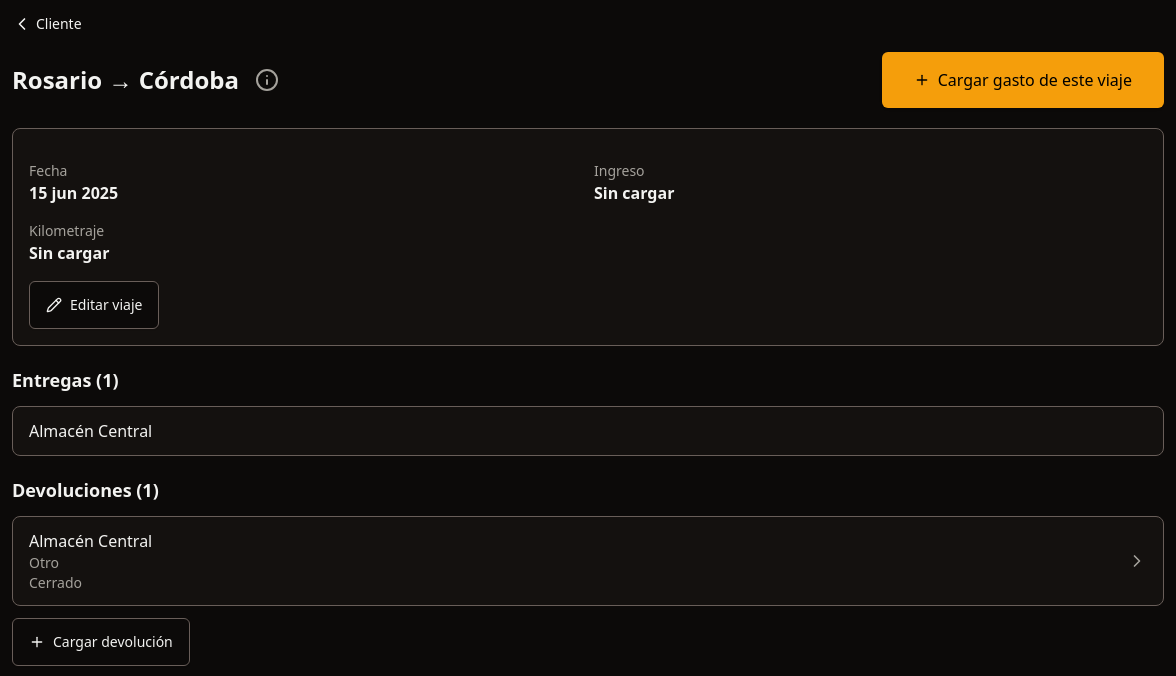
lo que se abre desde ese detalle devuelve el cliente al volver › editar una devolución del viaje (sin origen): guardar vuelve al DETALLE DEL VIAJE con el cliente
Click the link "Almacén Central Otro Cerrado" at (91, 541), box [12,516,1164,606]
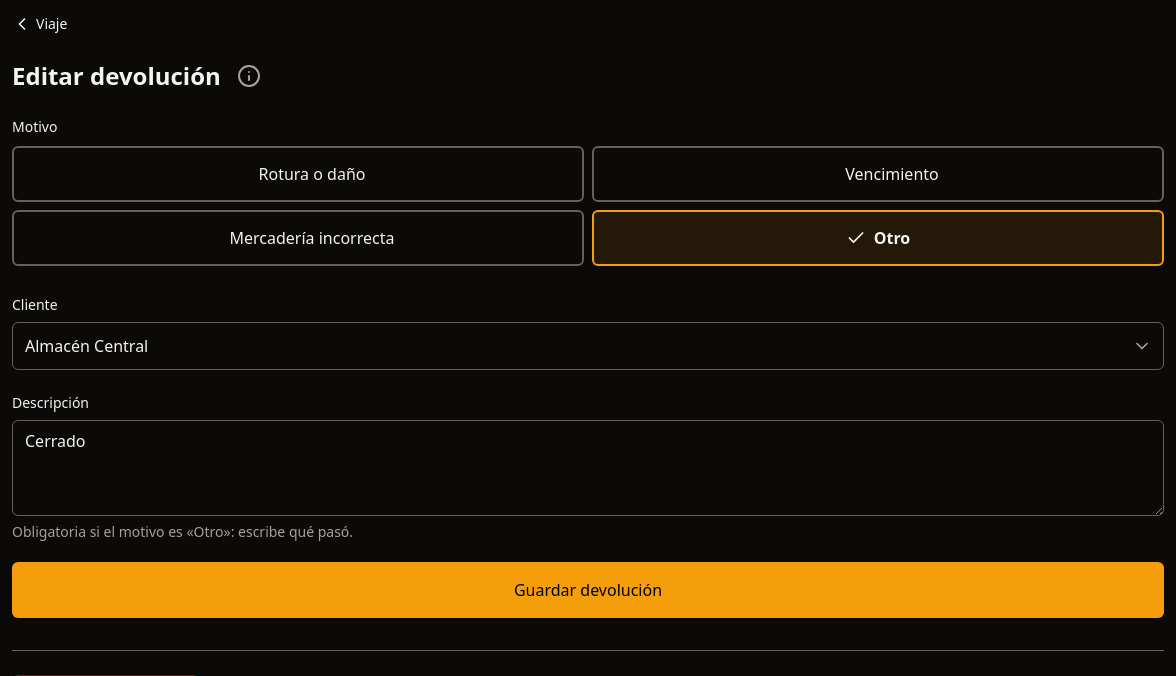
Result: the heading "Editar devolución" is shown at [12,60,221,92]
Result: the link with class "min-h-12" reads "Viaje" at [12,14,67,34]
Click the button "Guardar devolución" at (588, 590), box [12,562,1164,618]
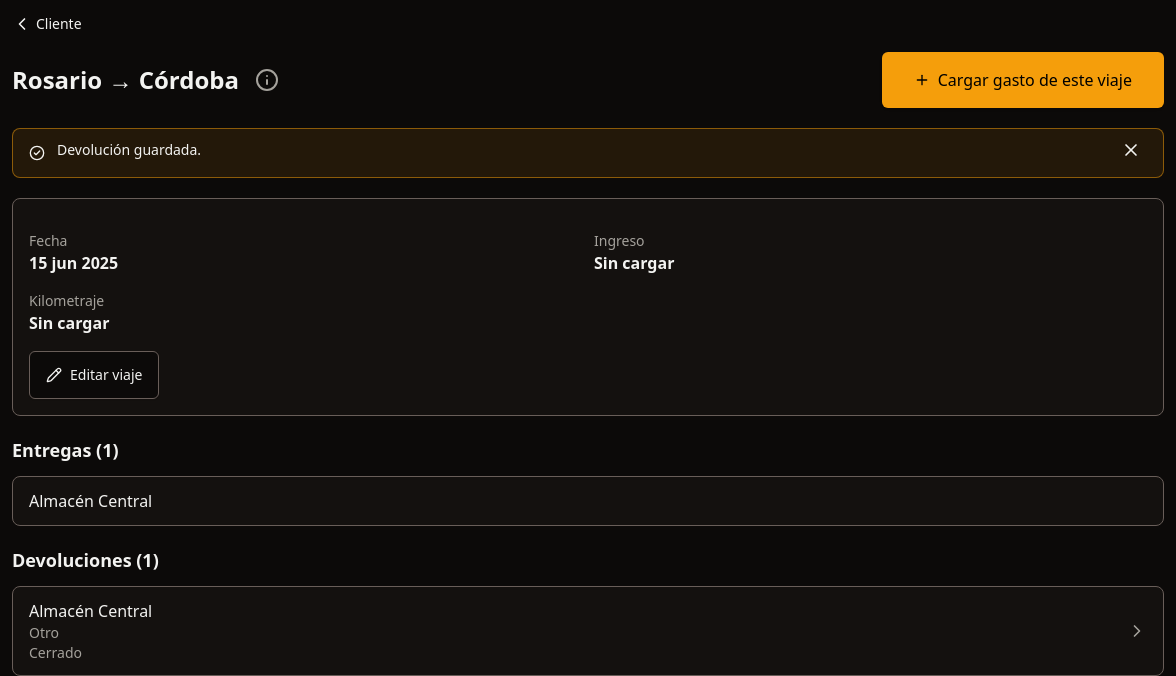
Result: the text "Devolución guardada." is shown at [57,140,201,159]
Result: the link with class "min-h-12" reads "Cliente" at [12,14,82,34]
